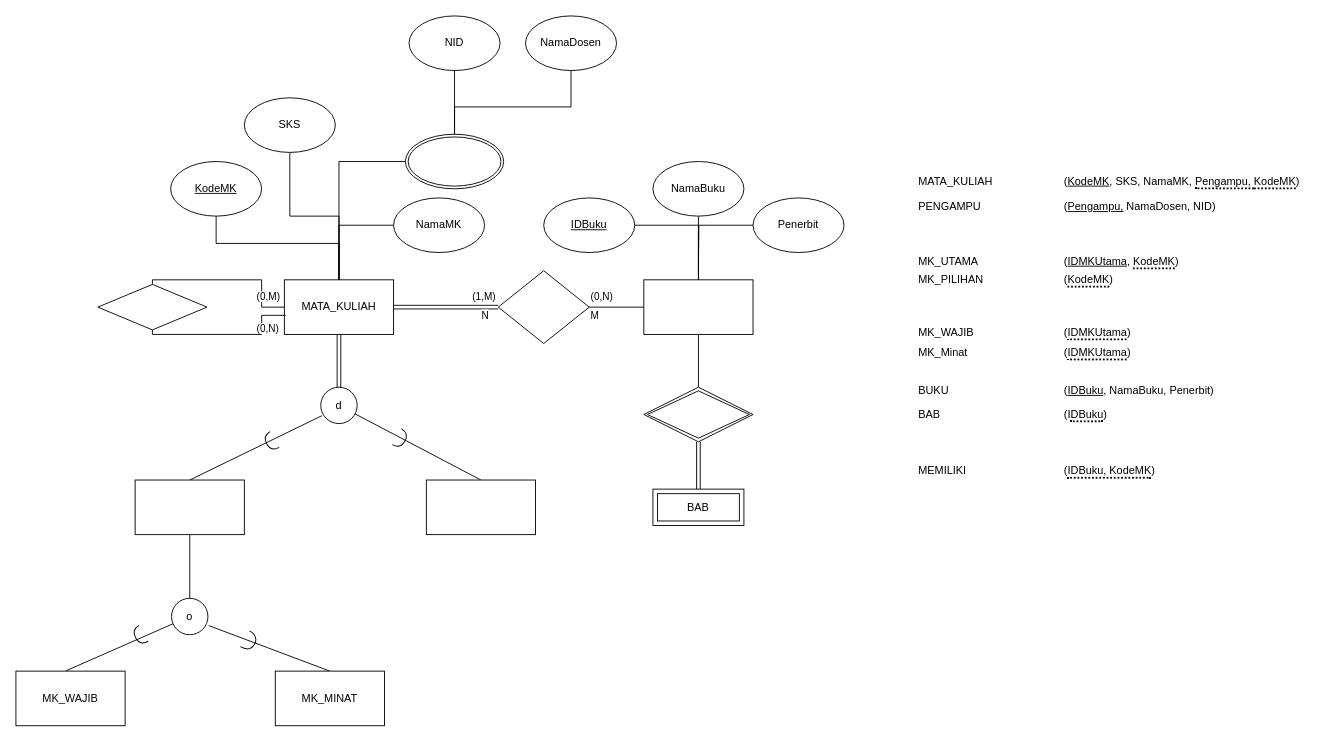
Image size: 1324x742. Some labels were removed from this diagram. The shapes that lost their labels are listed below. From the top down, each one's box as (x1, y1, x2, y2) in pixels, then its label:
(404, 133, 504, 189): Pengampu
(97, 283, 207, 330): prasyarat_untuk
(497, 270, 589, 344): memiliki
(643, 279, 753, 334): BUKU
(643, 386, 753, 442): merujuk
(134, 479, 244, 535): MK_UTAMA
(425, 479, 536, 535): MK_PILIHAN
